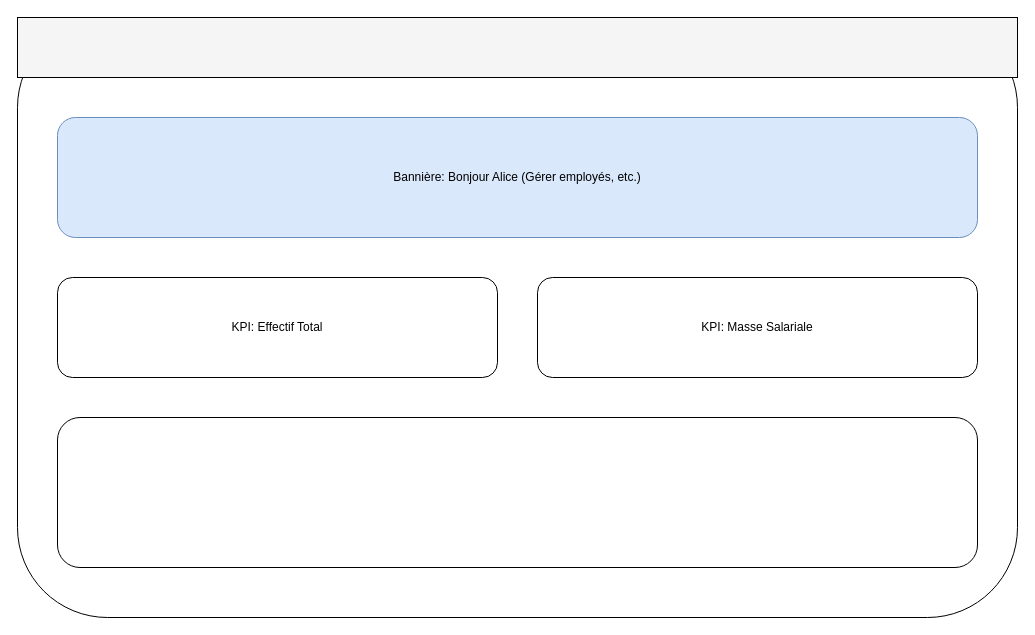
Image size: 1035x635. Some labels were removed from this diagram. The shapes that lost their labels are listed below. From the top down, each one's centre as x and y in pixels, then its label:
At point (517, 47): "Navbar: Accueil | Employés | Fiches de paie | Paramètres".
At point (517, 492): "Actions rapides (Boutons: Ajouter, Générer, Paramètres)".
